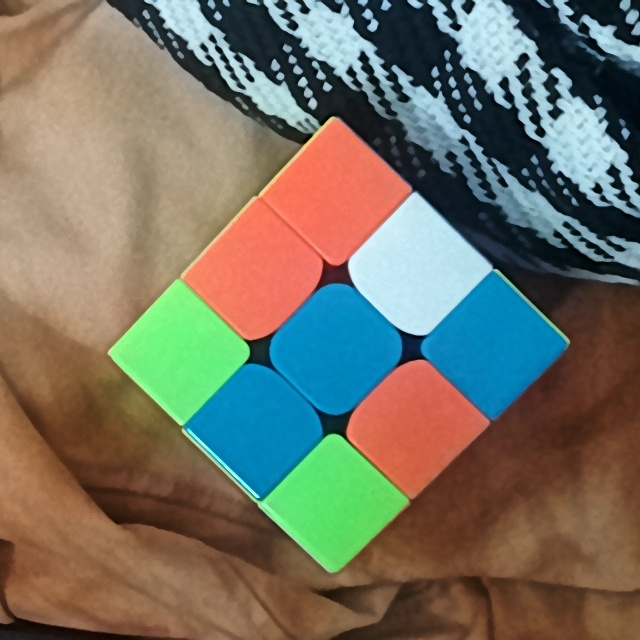tile: (219, 240, 296, 312), (304, 311, 377, 385), (295, 160, 375, 226), (146, 317, 215, 391), (383, 233, 450, 309), (462, 306, 527, 384), (225, 387, 293, 459), (386, 387, 454, 458), (305, 467, 371, 539)
